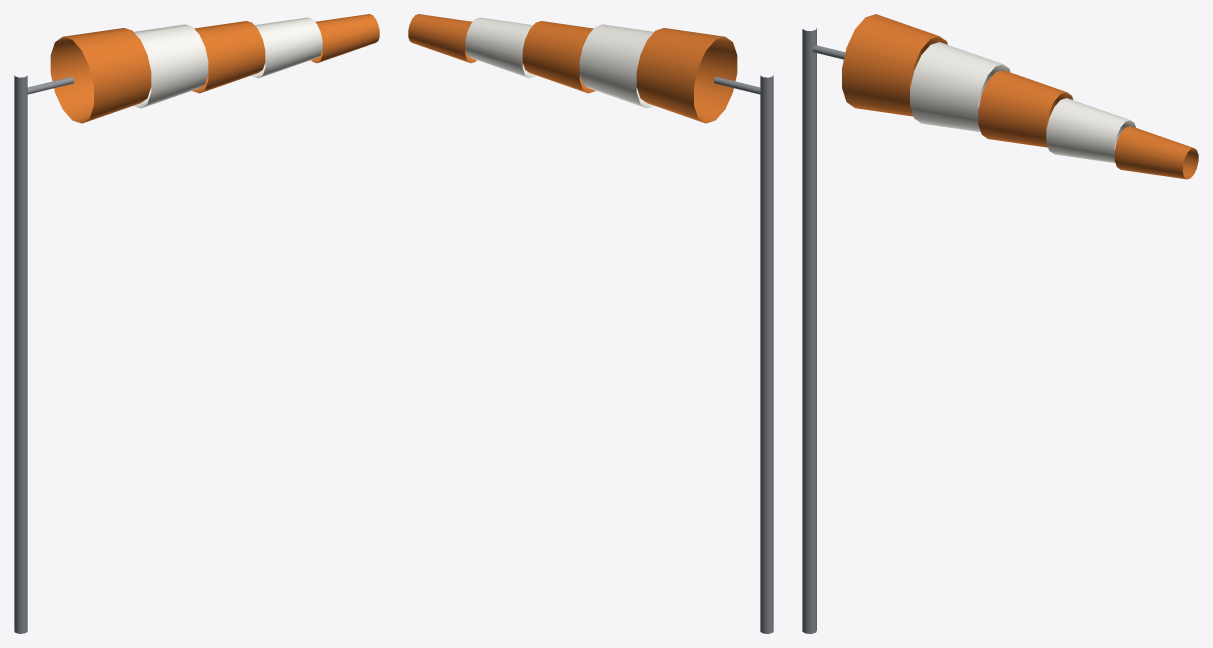
The model's file is biruta.glb.
3 views of the same model, side by side, from view 1: azimuth 30°, elevation 25°; view 2: azimuth 150°, elevation 25°; view 3: azimuth 330°, elevation 25° (orthographic). The views are drawn at different scales.
Visible parts, largest first — view 1: Detalhes; view 2: Detalhes; view 3: Detalhes.
Part boxes in pixels (x1,y1,x2,y2): Detalhes: (14, 14, 379, 633); Detalhes: (408, 14, 773, 633); Detalhes: (802, 14, 1198, 633).
Bounding box in the file's own units: 4.17 × 6.45 × 0.8774.
